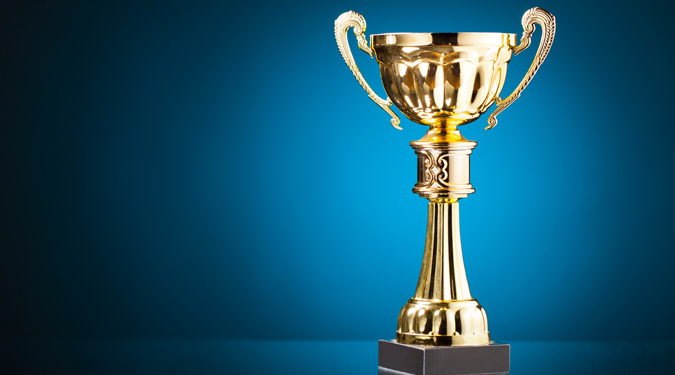trophy: (332, 4, 558, 375)
